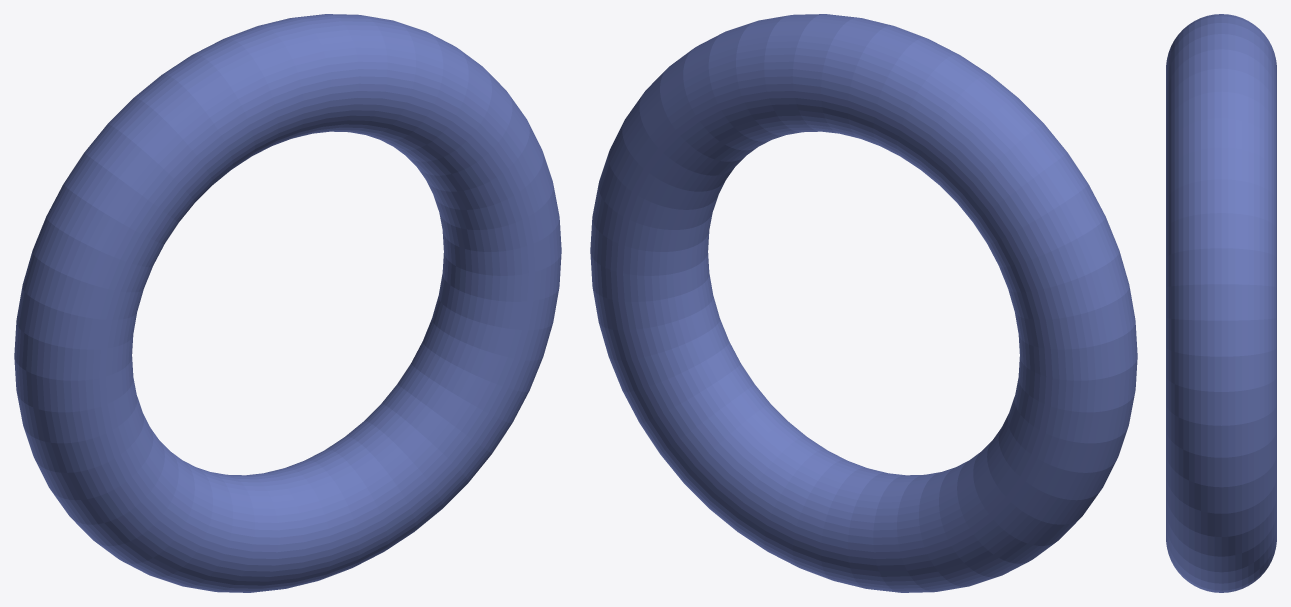
The picture shows the model from 3 angles, left to right: view 1: azimuth 30°, elevation 25°; view 2: azimuth 150°, elevation 25°; view 3: azimuth 270°, elevation 25°; orthographic projection. The views are drawn at different scales.
Parts seen in each view (by area): view 1: world; view 2: world; view 3: world.
Boxes of the visible parts, <box> form: world: <box>14,14,561,592</box>; world: <box>590,14,1137,592</box>; world: <box>1166,14,1276,592</box>.
Bounding box in the file's own units: 13.2 × 13.17 × 2.53.
